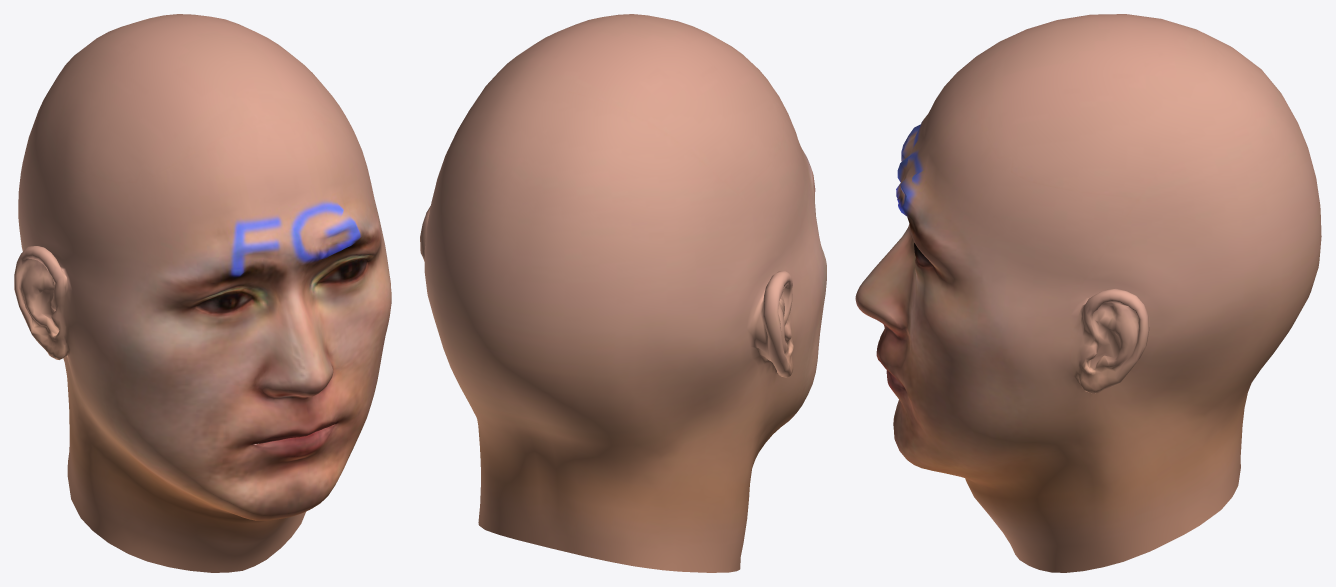
The model's file is MaleFaced19.obj.
The picture shows the model from 3 angles, left to right: view 1: azimuth 30°, elevation 25°; view 2: azimuth 150°, elevation 25°; view 3: azimuth 270°, elevation 25°; orthographic projection. The views are drawn at different scales.
Visible parts, largest first — view 1: HeadHires; view 2: HeadHires; view 3: HeadHires.
Boxes of the visible parts, x1,y1,x2,y2 form: HeadHires: (14, 14, 391, 572); HeadHires: (420, 14, 826, 572); HeadHires: (855, 14, 1321, 572).
Bounding box in the file's own units: 196 × 283 × 230.
